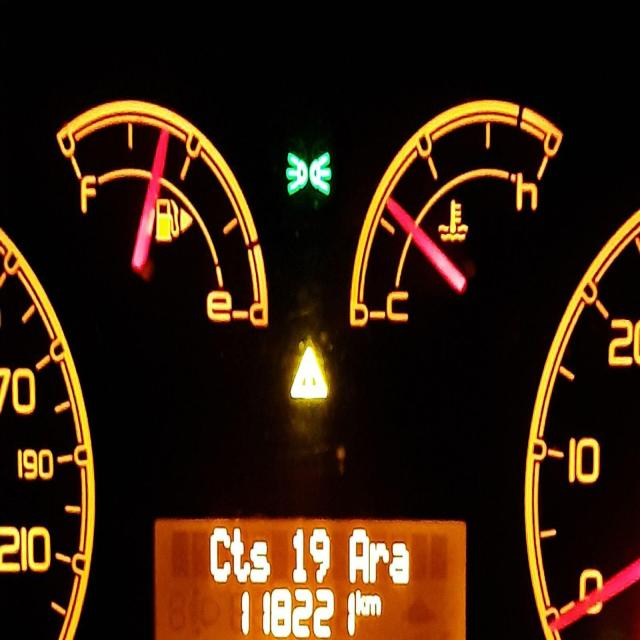odometer: (144, 512, 476, 640)
